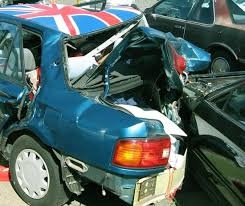Dent: (73, 100, 104, 131)
Smashed: (96, 26, 209, 157)
